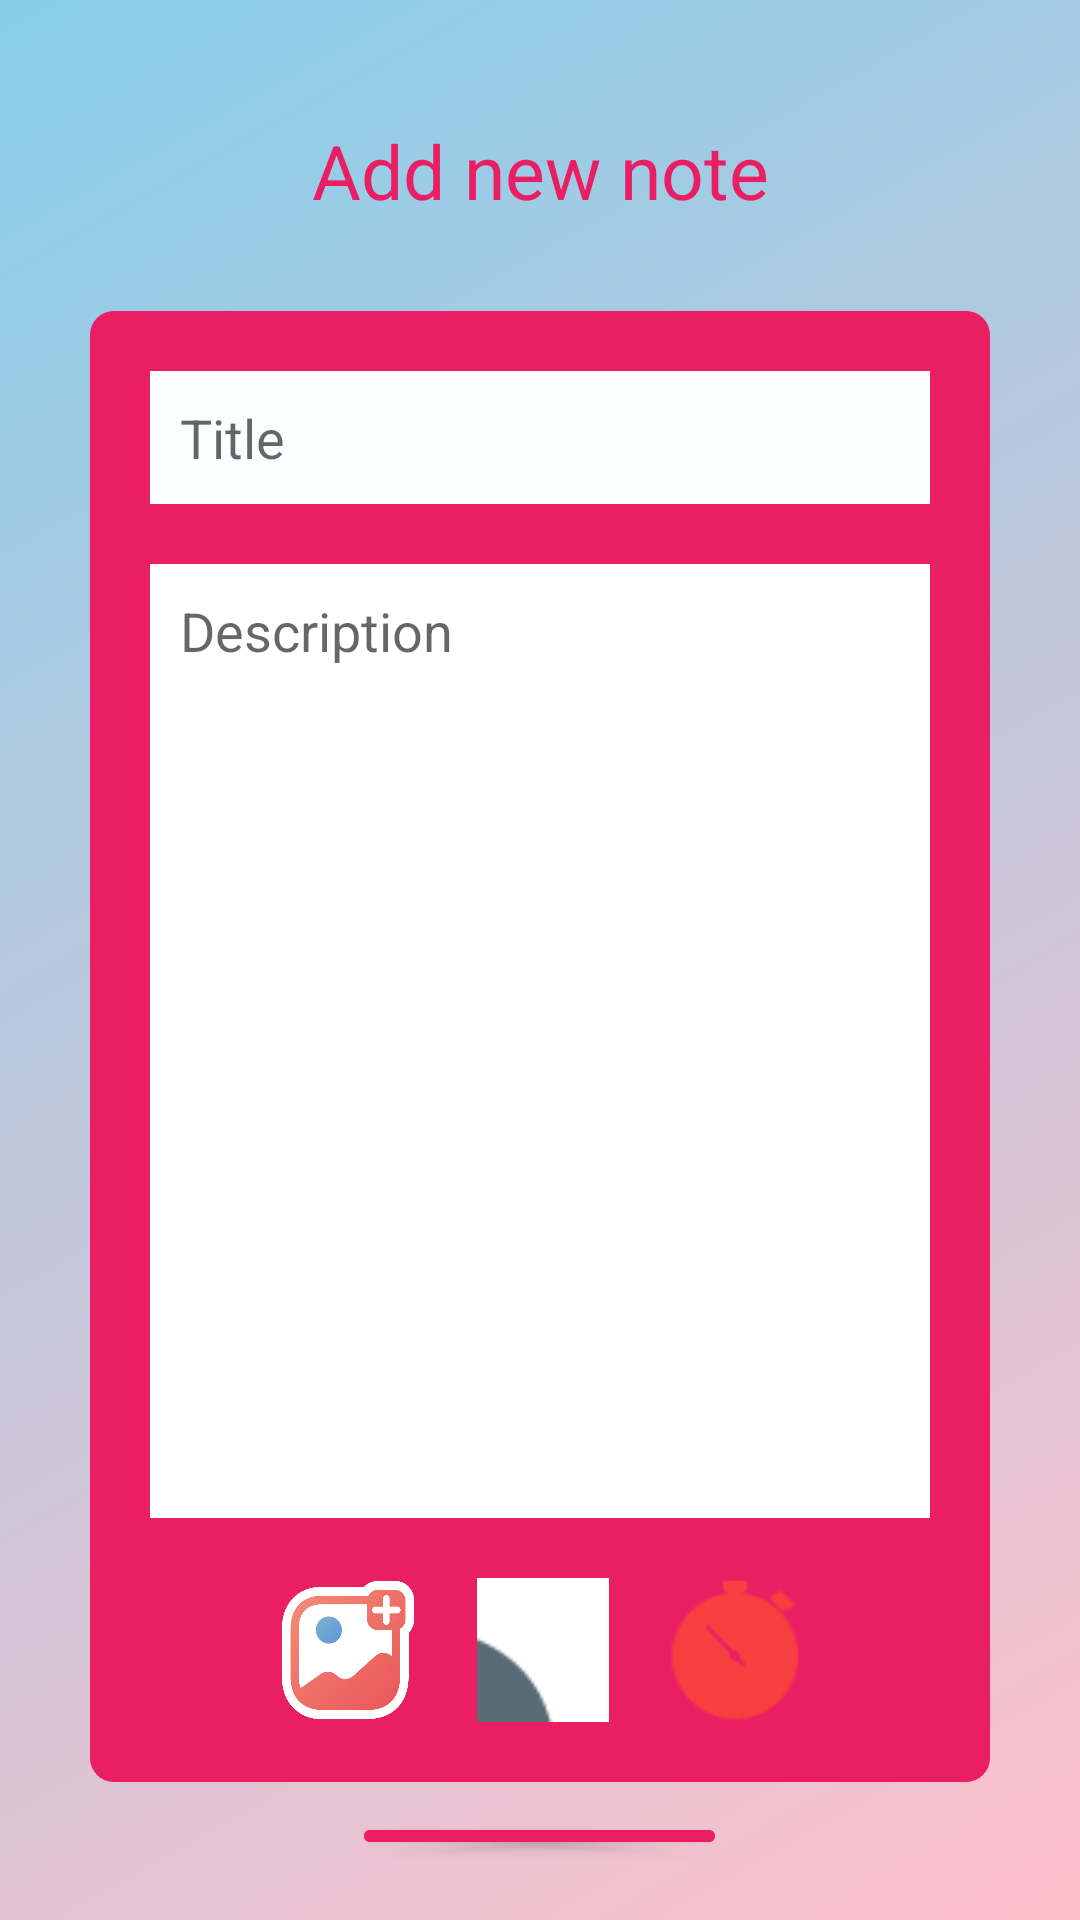

Screen size 1080px x 1920px. Icon name, then its box in pixels as (x1, y1, x2, y2):
add: (282, 1581, 414, 1719)
time: (673, 1582, 797, 1718)
